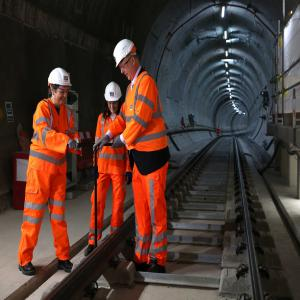white: (113, 38, 142, 80), (48, 67, 72, 107), (105, 82, 124, 114)
